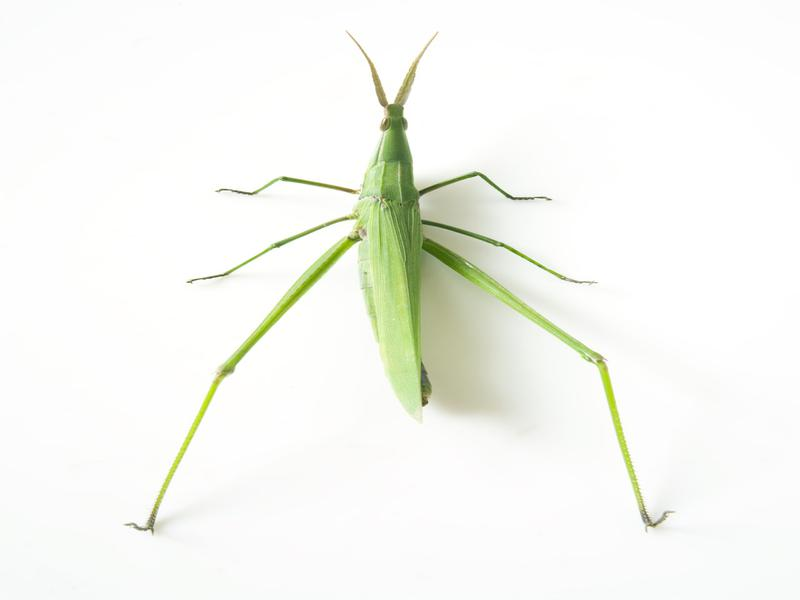Grasshopper: (140, 64, 641, 511)
